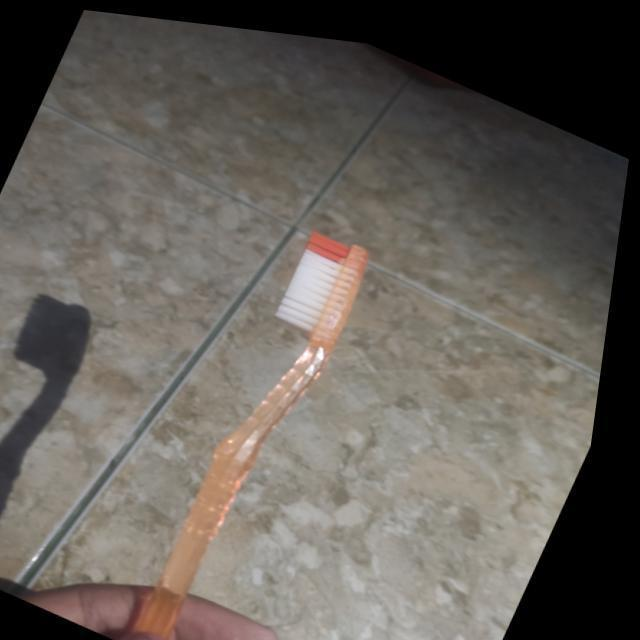toothbrush: (98, 166, 420, 640)
